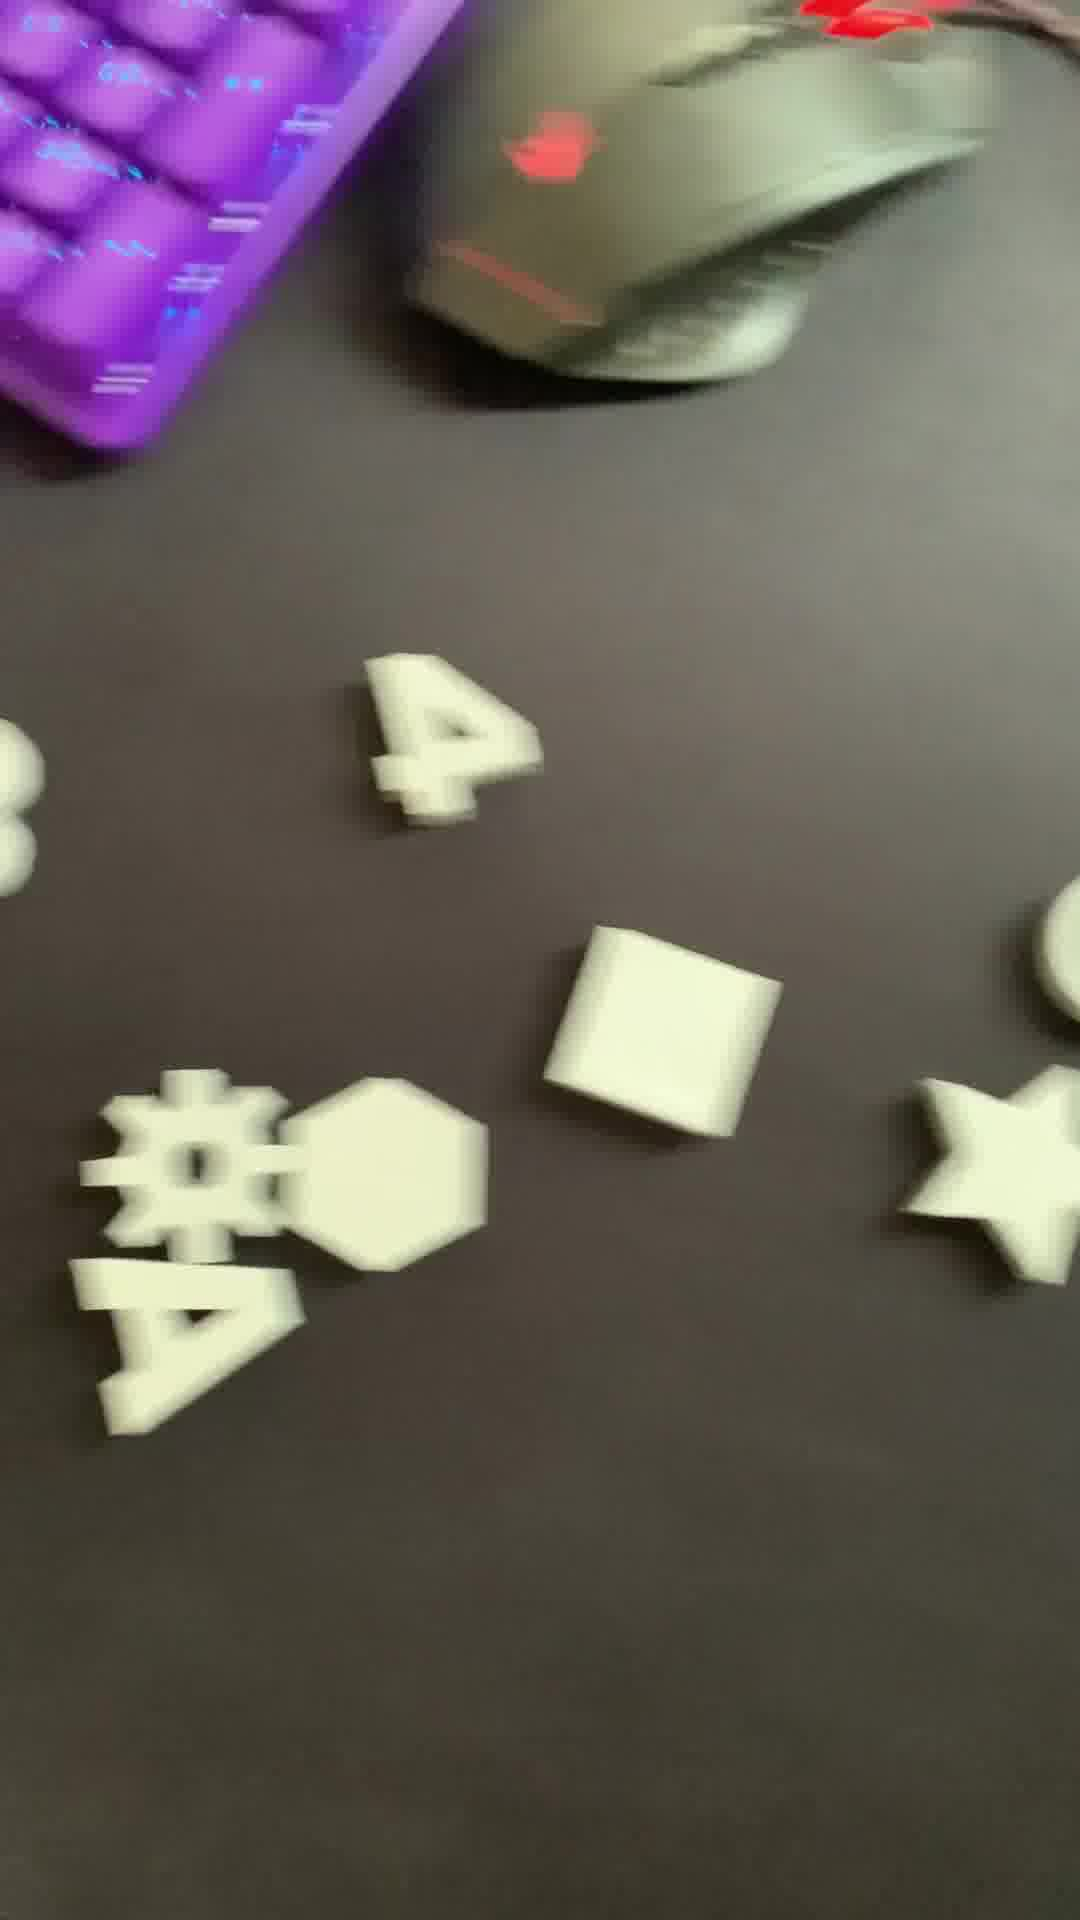Gray A-letter: (58, 1247, 305, 1447)
Gray four: (367, 640, 527, 844)
Gray gear: (86, 1069, 294, 1263)
Gray hexagon: (280, 1052, 487, 1280)
Gray square: (549, 930, 785, 1160)
Gray star: (913, 1055, 1080, 1284)
